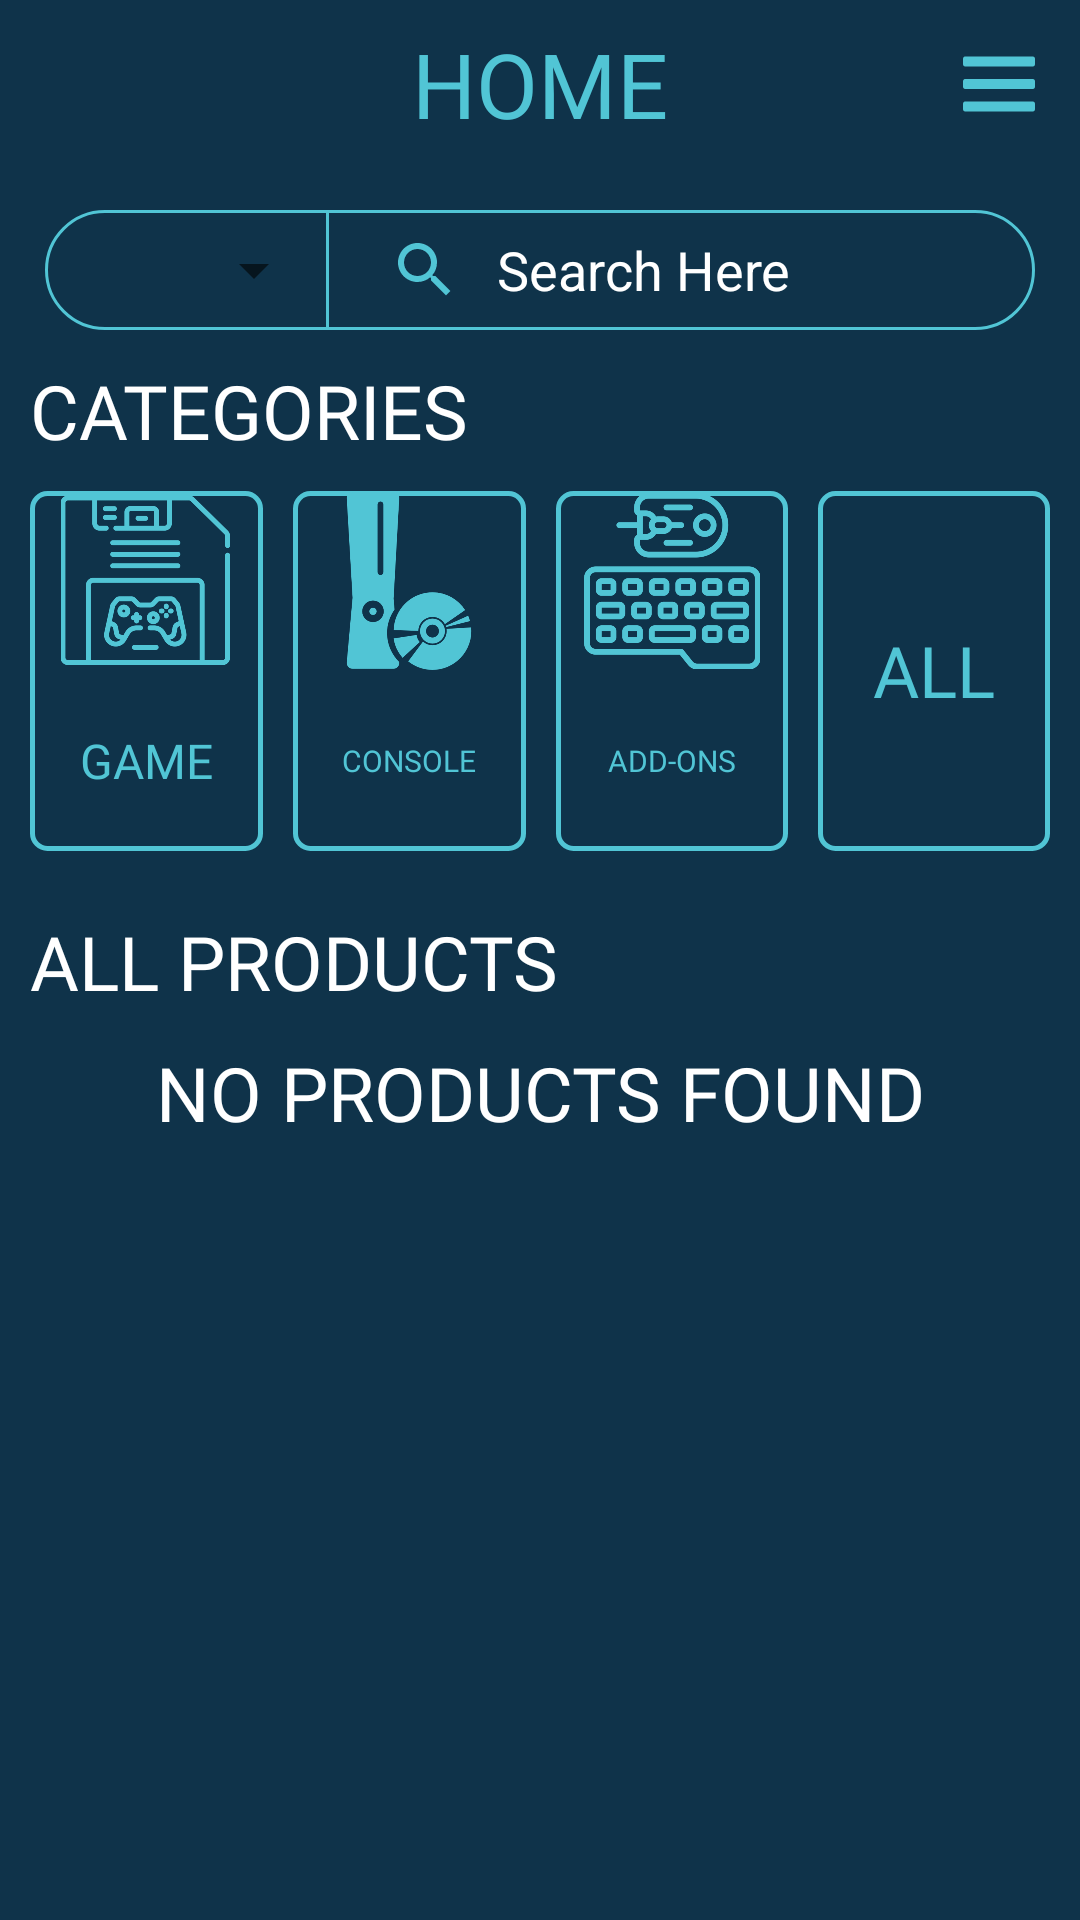

Icon bounding boxes for this 1080*1920 phone screenshot, format box=[x1, y1, x2, y2]:
more: box=[963, 56, 1035, 112]
